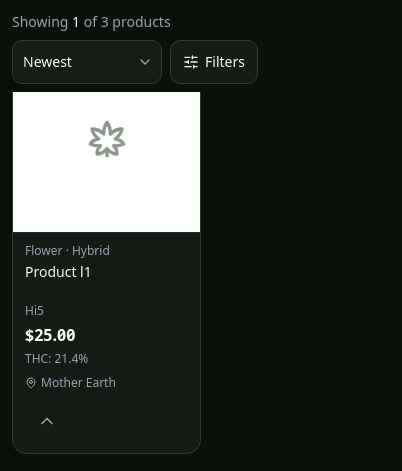
Test case: ProductGrid progressive loading › replaces the slice with an empty set when the category sold out (no stale rows)
The image size is (402, 471).
Press the mouse on the button "Filters" at (214, 62), box [170,40,258,84]
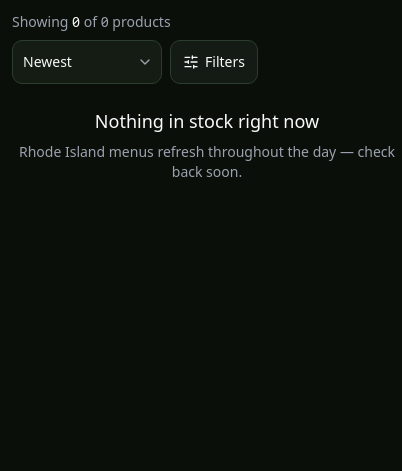
Now the heading "Product l1" is gone
